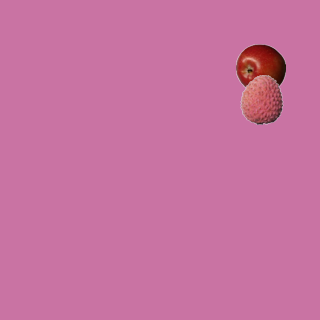Apple Braeburn: (235, 43, 285, 93)
Lychee: (236, 74, 286, 124)
